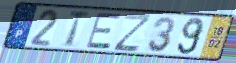2: (27, 7, 60, 48)
3: (147, 15, 177, 54)
9: (175, 16, 205, 57)
E: (84, 12, 123, 50)
T: (64, 9, 92, 49)
Z: (112, 12, 154, 53)
